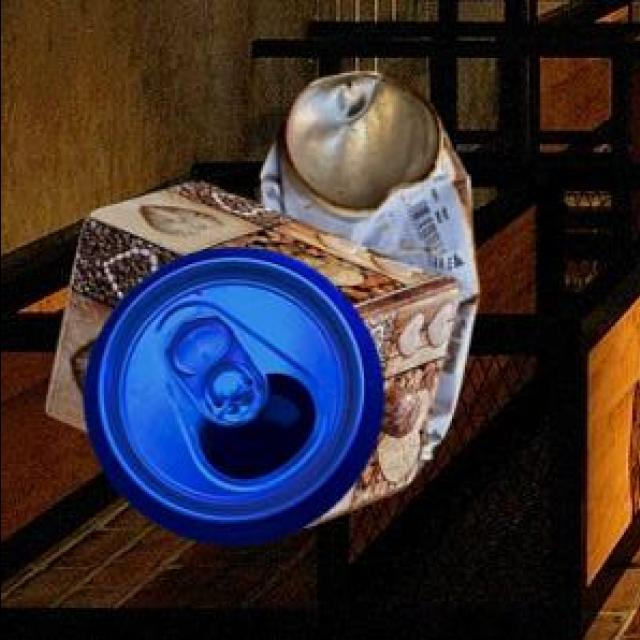logam: (48, 179, 463, 523), (87, 246, 386, 540), (263, 68, 482, 469)
